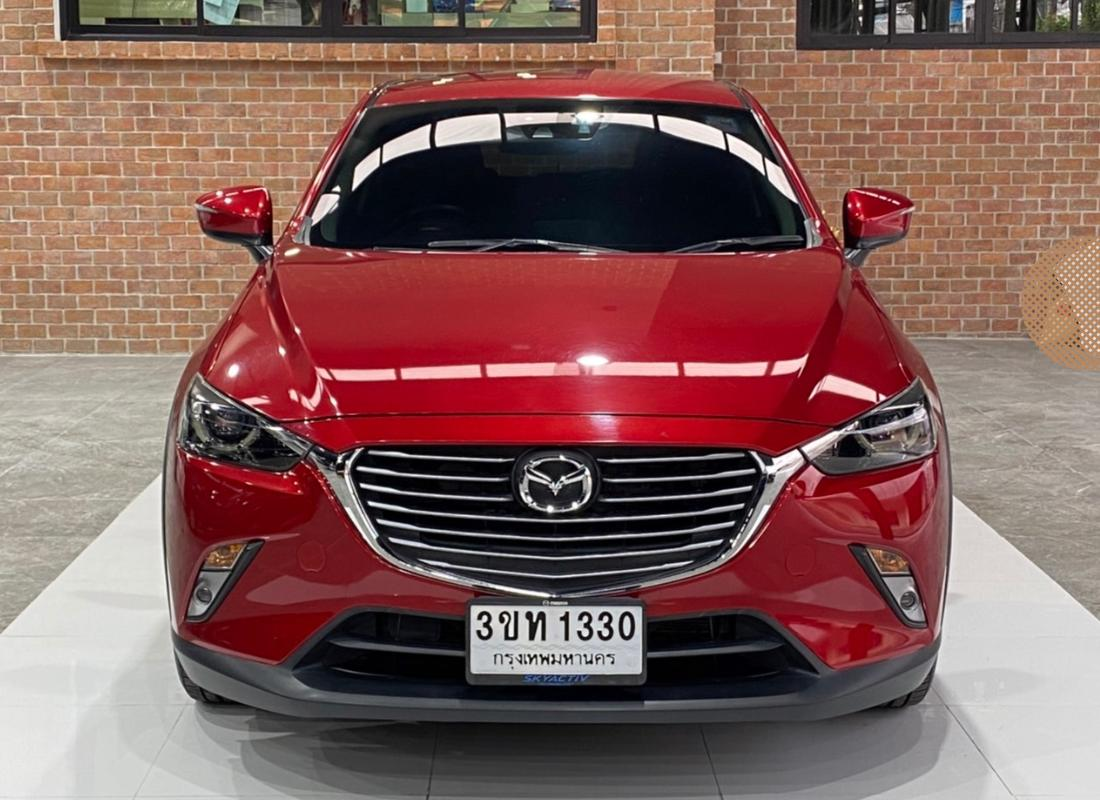license-plate: (463, 597, 654, 692)
